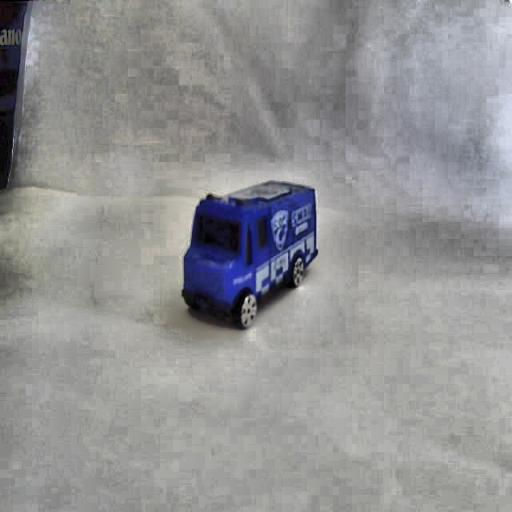police car: (180, 167, 322, 330)
